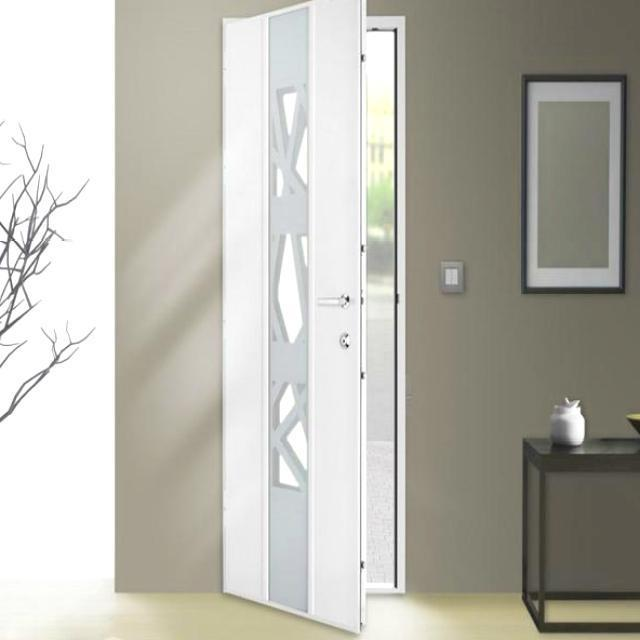door: (224, 1, 371, 640)
